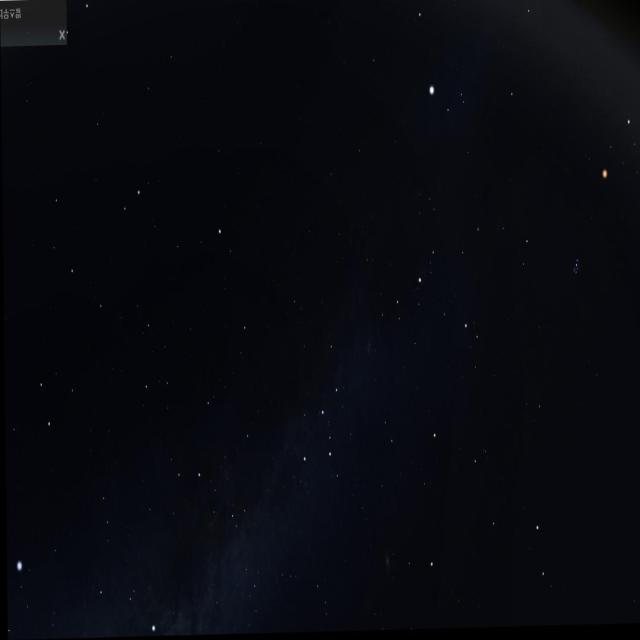cassiopeia: (297, 326, 358, 474)
pleiades: (566, 244, 586, 292)
